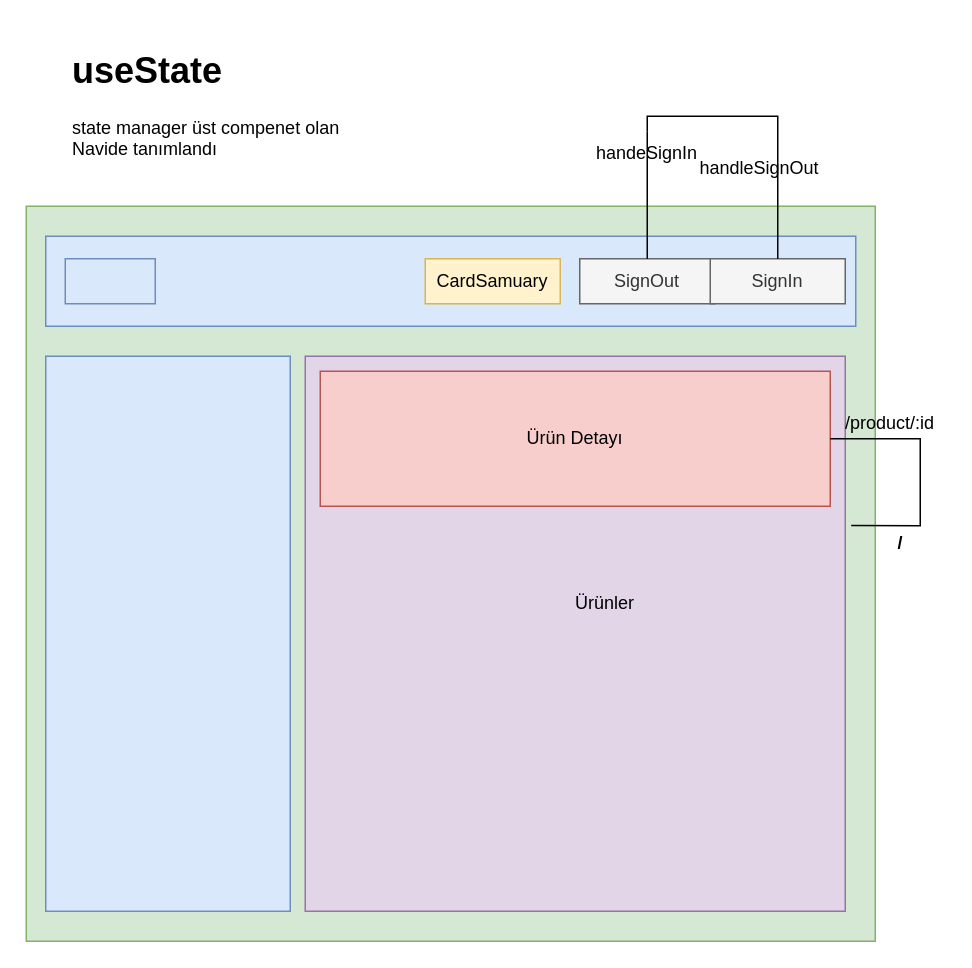
The diagram is 972 pixels wide and 968 high, and some of its shapes have lost their labels. Here are the shapes that lost their labels. From the top down, the box of each, then its label:
(64, 257, 155, 304): Navigation
(44, 355, 290, 911): Katogoriler
